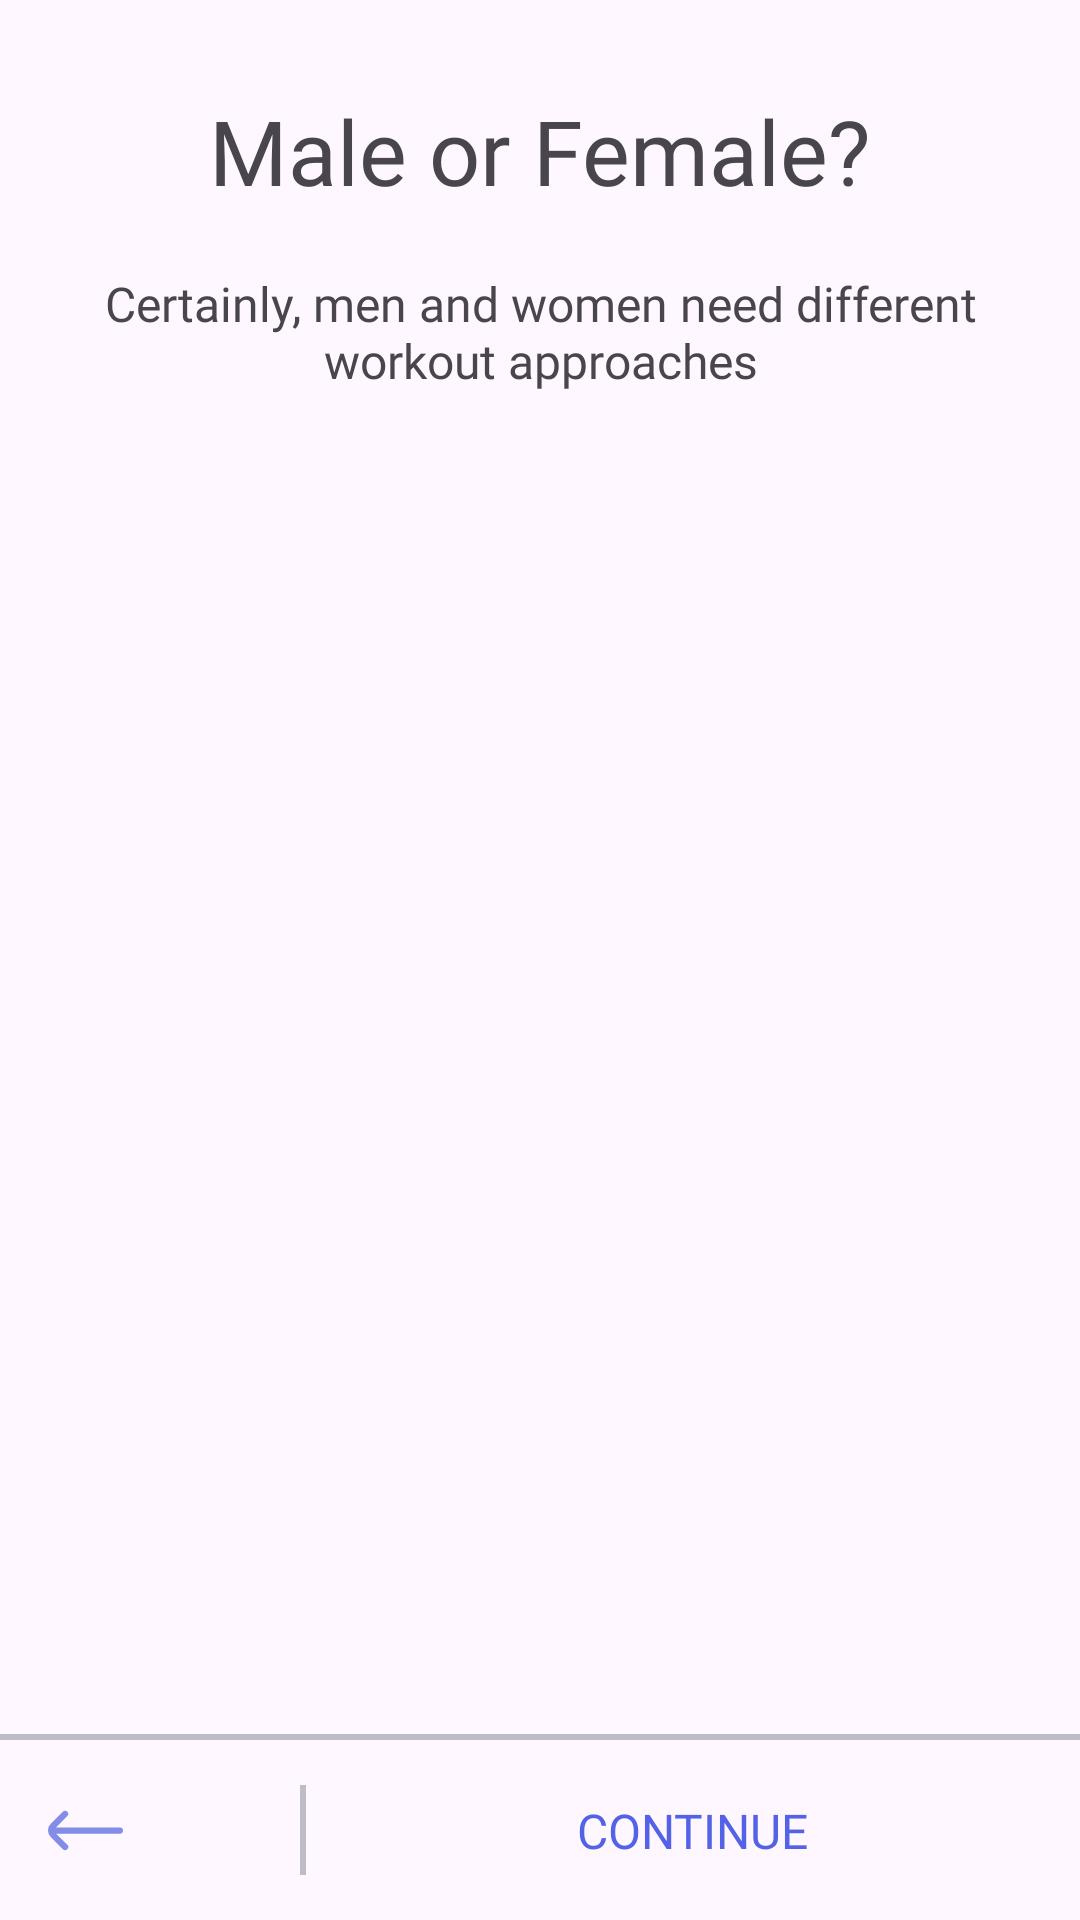

Screen size 1080 × 1920. Icon name, then its box in pixels as [x1=x1, y1=y1, x2=x2, y2=y2]:
arrow left: [x1=48, y1=1811, x2=123, y2=1850]
